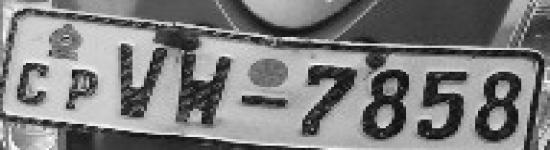-: (233, 90, 298, 115)
5: (414, 65, 472, 145)
7: (296, 59, 360, 143)
8: (360, 64, 415, 143), (474, 66, 524, 144)
C: (12, 59, 54, 110)
P: (63, 65, 104, 114)
V: (113, 35, 172, 126)
W: (174, 49, 238, 134)
